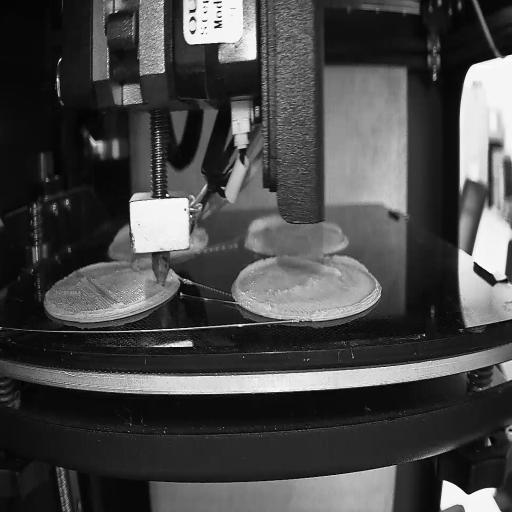over_extrusion: (235, 256, 282, 304), (282, 254, 368, 278), (244, 216, 280, 243)
